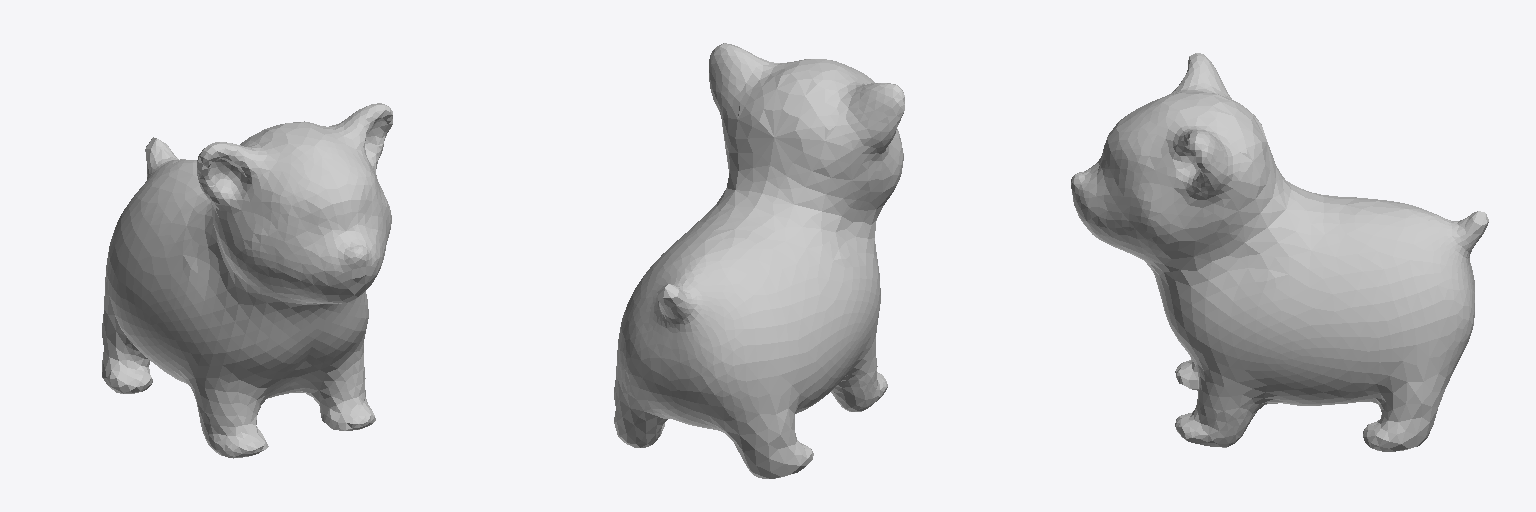
Rendered from doggofessesup.obj.
3 renders of one model, left to right at view 1: azimuth 30°, elevation 25°; view 2: azimuth 150°, elevation 25°; view 3: azimuth 270°, elevation 25°, orthographic.
Size of the model in its own units: 2.27 by 3.58 by 4.2.